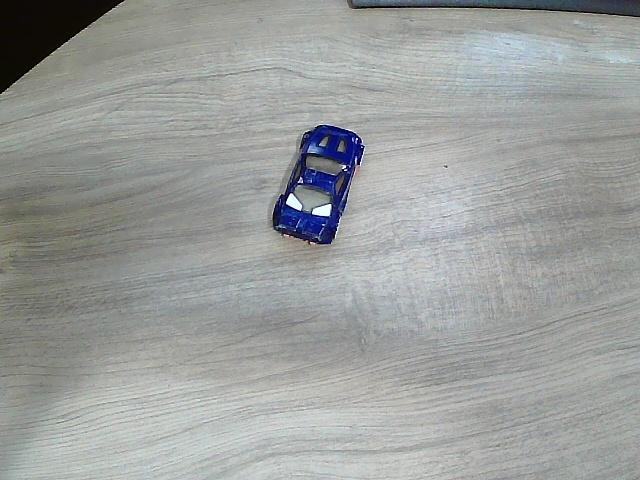Carro: (271, 125, 364, 245)
